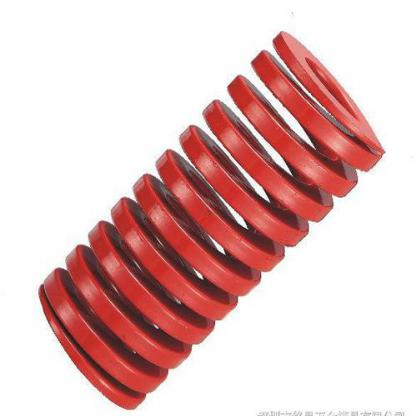FOD: (34, 30, 386, 413)
